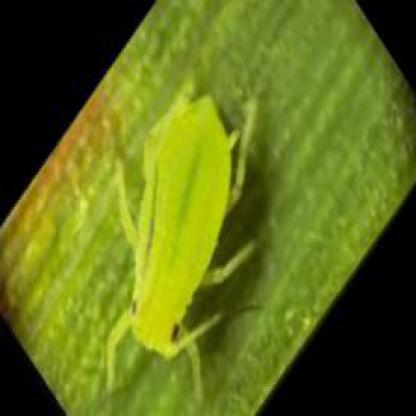schizaphis graminum: (108, 85, 260, 389)
